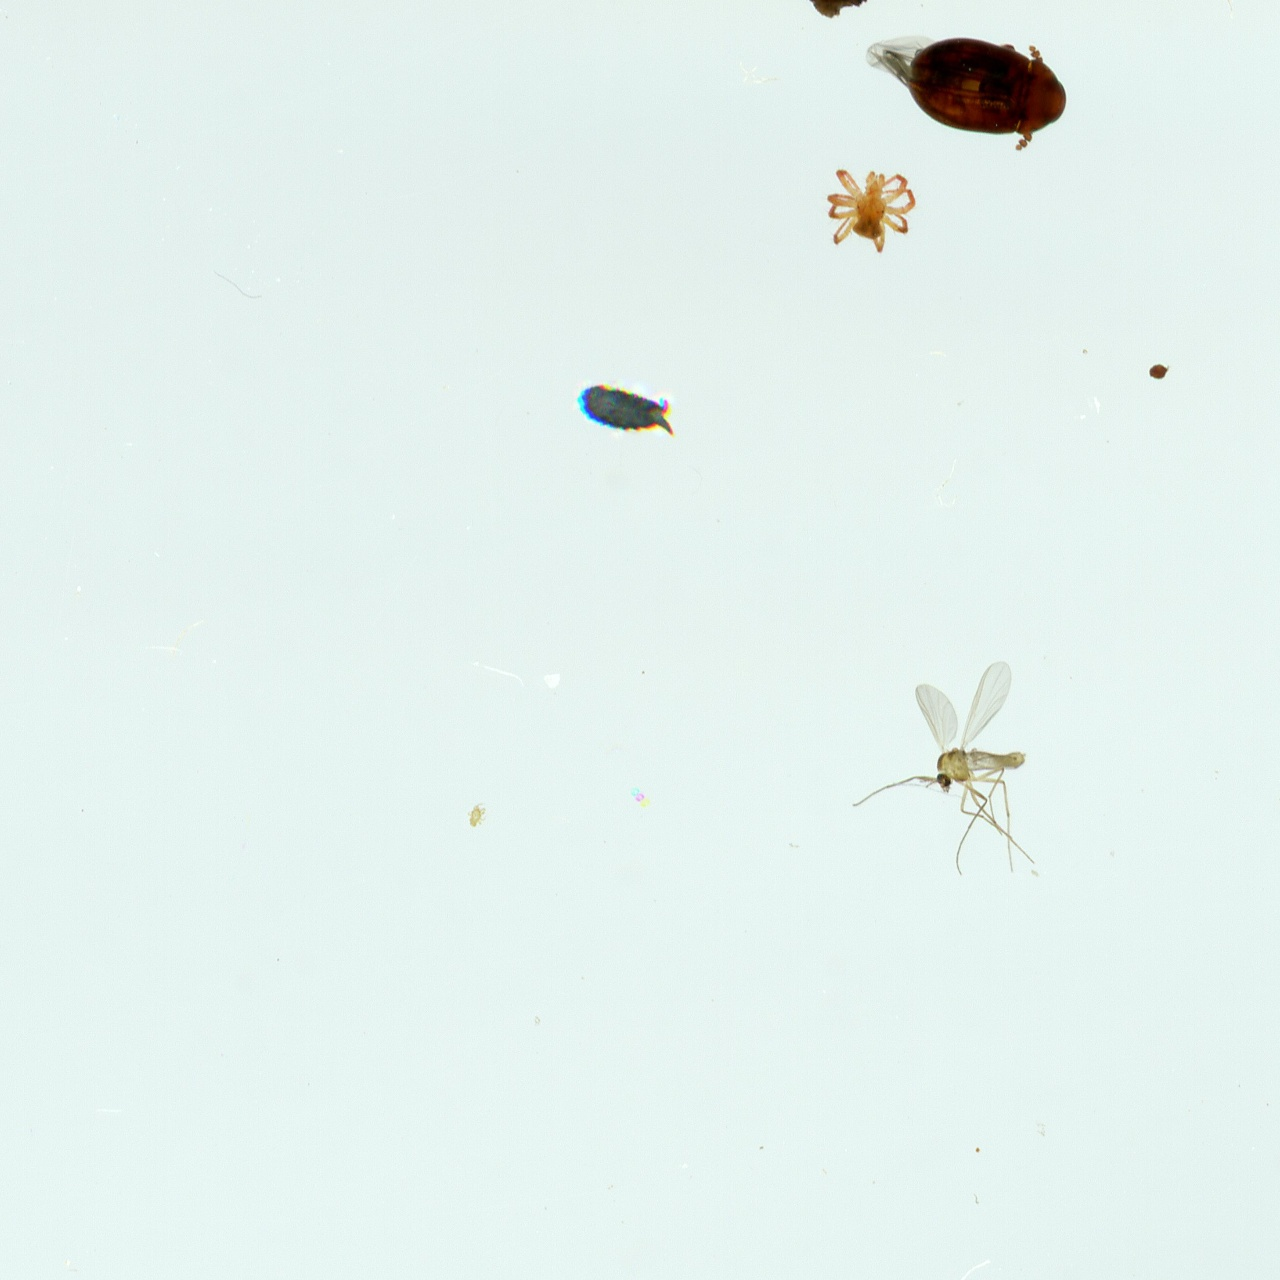arthropod: (852, 662, 1035, 876), (869, 35, 1067, 151), (828, 168, 917, 254), (578, 382, 674, 437), (467, 803, 488, 829)
